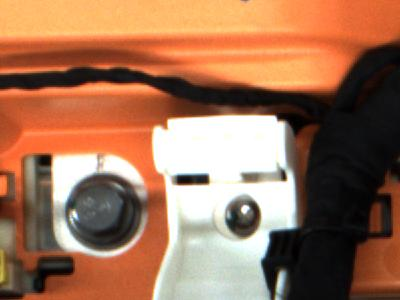nut_b: (52, 171, 147, 256)
